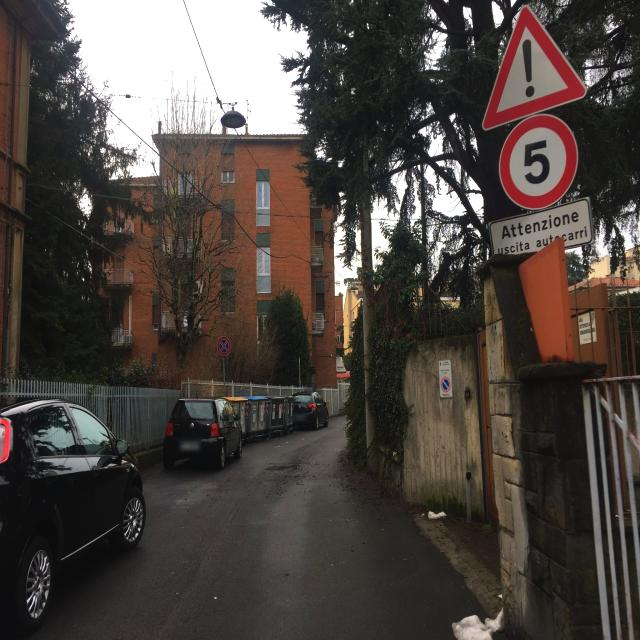car: (0, 391, 147, 638), (162, 396, 244, 471), (290, 393, 330, 431)
